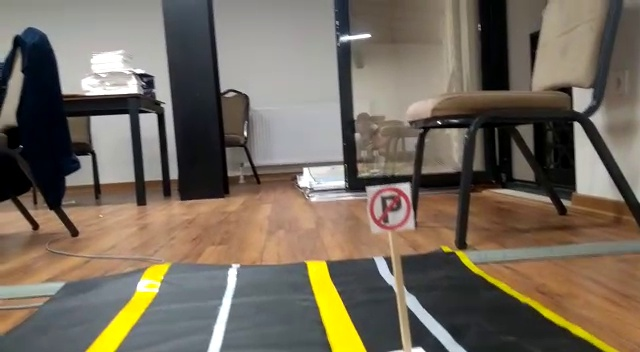park_yapilmaz: (368, 181, 411, 229)
